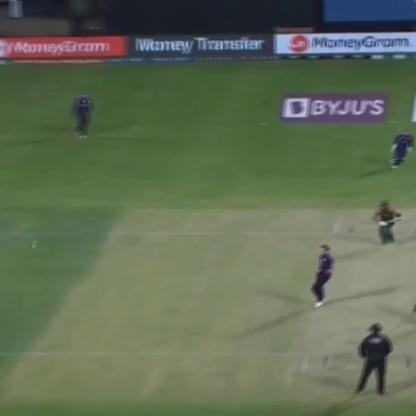ball: (26, 240, 39, 256)
pitch: (314, 212, 415, 410)
